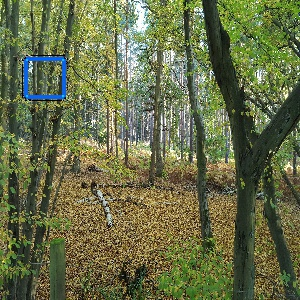square: (22, 55, 68, 103)
